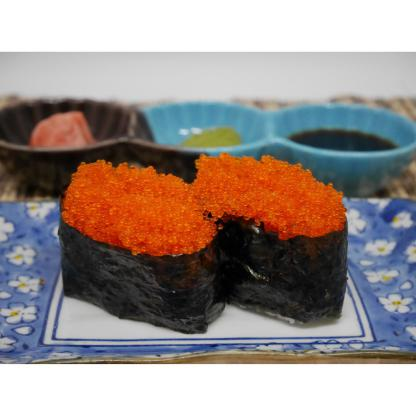tobiko: (53, 156, 230, 341)
